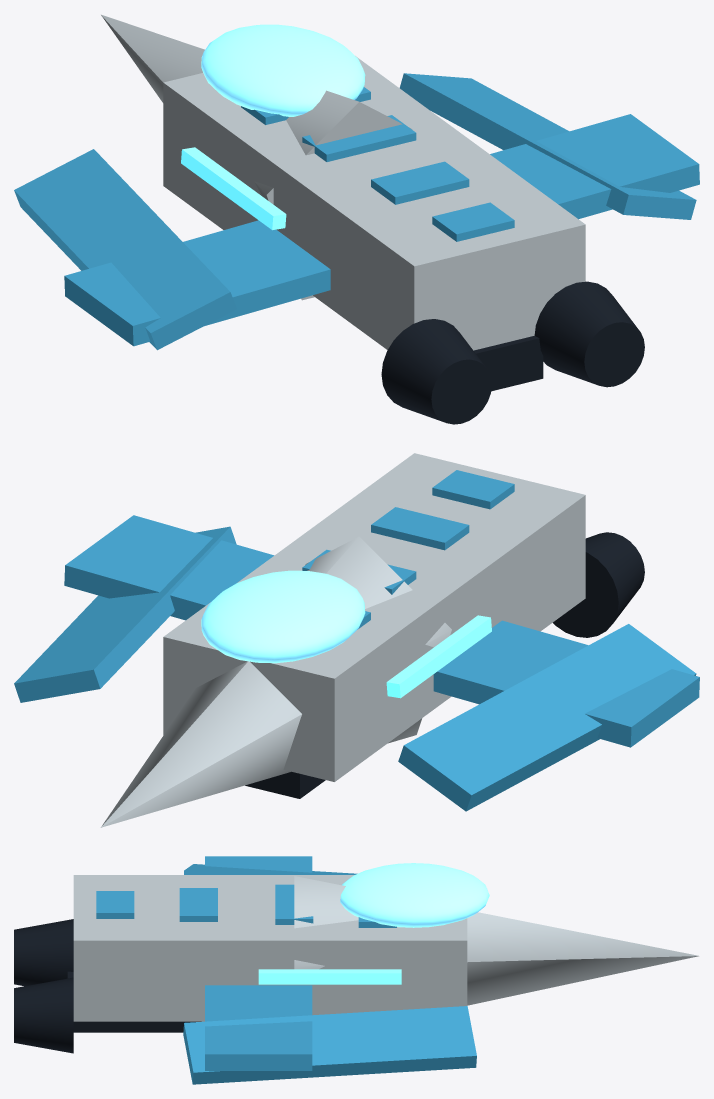
The model's file is sparrow-mk1.glb.
The picture shows the model from 3 angles, top to bottom: view 1: azimuth 30°, elevation 25°; view 2: azimuth 150°, elevation 25°; view 3: azimuth 270°, elevation 25°; orthographic projection. The views are drawn at different scales.
Visible parts, largest first — view 1: narrow pressure body, main swept wing, folded outer wing -1, raised bubble canopy, folded outer wing 1, compact vector nozzle -1, compact vector nozzle 1, faceted scout prow, blue intake slit -1, recessed belly keel, sparrow dorsal plate 2, sparrow dorsal plate 1 (+1 smaller); view 2: narrow pressure body, main swept wing, folded outer wing -1, faceted scout prow, raised bubble canopy, folded outer wing 1, compact vector nozzle -1, blue intake slit -1, sparrow dorsal plate 2, sparrow dorsal plate 3, recessed belly keel; view 3: narrow pressure body, faceted scout prow, folded outer wing 1, main swept wing, raised bubble canopy, compact vector nozzle 1, compact vector nozzle -1, blue intake slit 1, recessed belly keel, sparrow dorsal plate 2, sparrow dorsal plate 3, folded outer wing -1 (+1 smaller).
Part boxes in pixels (box(x1,y1,x2,y2)): narrow pressure body: box(163, 56, 585, 350); main swept wing: box(64, 114, 699, 346); folded outer wing -1: box(14, 149, 236, 350); raised bubble canopy: box(201, 24, 365, 116); folded outer wing 1: box(399, 73, 696, 219); compact vector nozzle -1: box(381, 319, 491, 424); compact vector nozzle 1: box(534, 281, 644, 387); faceted scout prow: box(101, 14, 412, 300); blue intake slit -1: box(181, 147, 286, 230); recessed belly keel: box(474, 336, 543, 391); sparrow dorsal plate 2: box(371, 161, 469, 204); sparrow dorsal plate 1: box(302, 115, 416, 161); narrow pressure body: box(163, 453, 585, 781); main swept wing: box(64, 515, 699, 747); folded outer wing -1: box(398, 624, 696, 811); faceted scout prow: box(101, 536, 451, 827); raised bubble canopy: box(201, 570, 365, 663); folded outer wing 1: box(14, 526, 236, 702); compact vector nozzle -1: box(553, 532, 644, 637); blue intake slit -1: box(386, 615, 491, 698); sparrow dorsal plate 2: box(371, 507, 469, 550); sparrow dorsal plate 3: box(432, 470, 514, 509); recessed belly keel: box(245, 771, 325, 798); narrow pressure body: box(73, 875, 467, 1021); faceted scout prow: box(294, 876, 698, 1005); folded outer wing 1: box(183, 1006, 476, 1084); main swept wing: box(205, 856, 312, 1070); raised bubble canopy: box(340, 863, 489, 927); compact vector nozzle 1: box(14, 977, 73, 1053); compact vector nozzle -1: box(14, 919, 73, 986); blue intake slit 1: box(258, 969, 401, 984); recessed belly keel: box(67, 971, 201, 1032); sparrow dorsal plate 2: box(179, 888, 217, 921); sparrow dorsal plate 3: box(96, 891, 134, 918); folded outer wing -1: box(184, 864, 357, 874).
Size of the model in its own units: 43.03 by 13.45 by 57.5.
